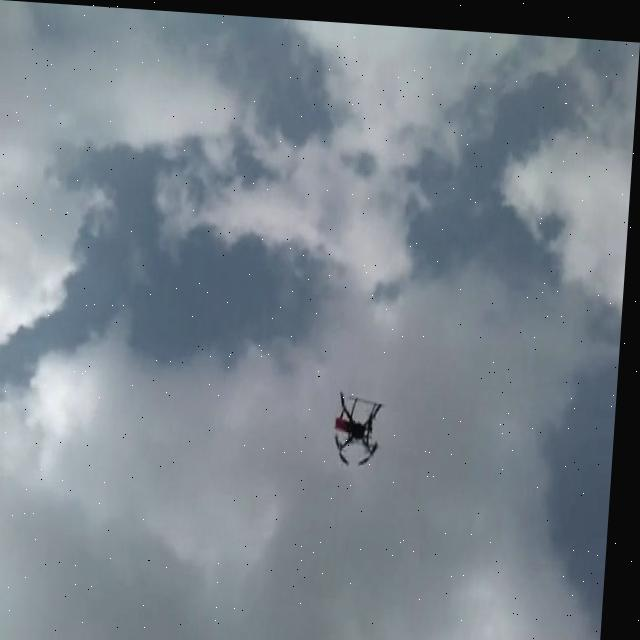drone: (335, 379, 391, 465)
